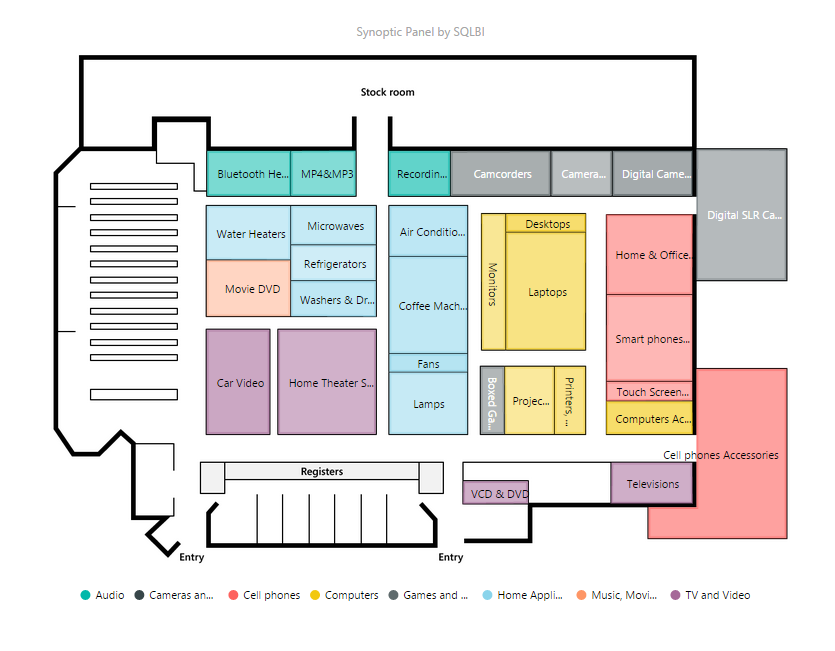

The dashboard page shown, as its layout file describes it:
{"tool":"powerbi","page":{"name":"Page 1","canvas":[960,720],"ordinal":0},"visuals":[{"type":"Timeline1444442438073","fields":{"Time":["Date.Date"]},"box":[259.6,610.7,431.4,83],"z":0},{"type":"SynopticPanelBySQLBI1444995042753","fields":{"Category":["Product Category.Category"],"Series":["Product Subcategory.Subcategory"],"Y":["Sales.Margin %"],"Saturation":["Sales.Margin %"]},"box":[107.1,46.7,672.7,534.4],"z":1}]}

Visuals, with their boxes on the page's 960x720 design canvas (x1, y1, x2, y2). These are canvas units, not pixel positions in the 835x651 screenshot, which may show the page scaled, cropped or inside an application window:
Timeline1444442438073 - Date.Date: x1=260 y1=611 x2=691 y2=694
SynopticPanelBySQLBI1444995042753 - Product Category.Category x Product Subcategory.Subcategory: x1=107 y1=47 x2=780 y2=581
